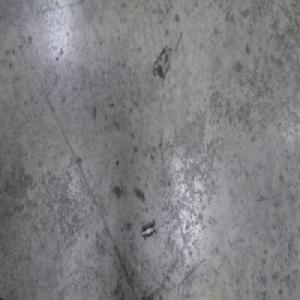Bolt: (141, 221, 157, 241)
